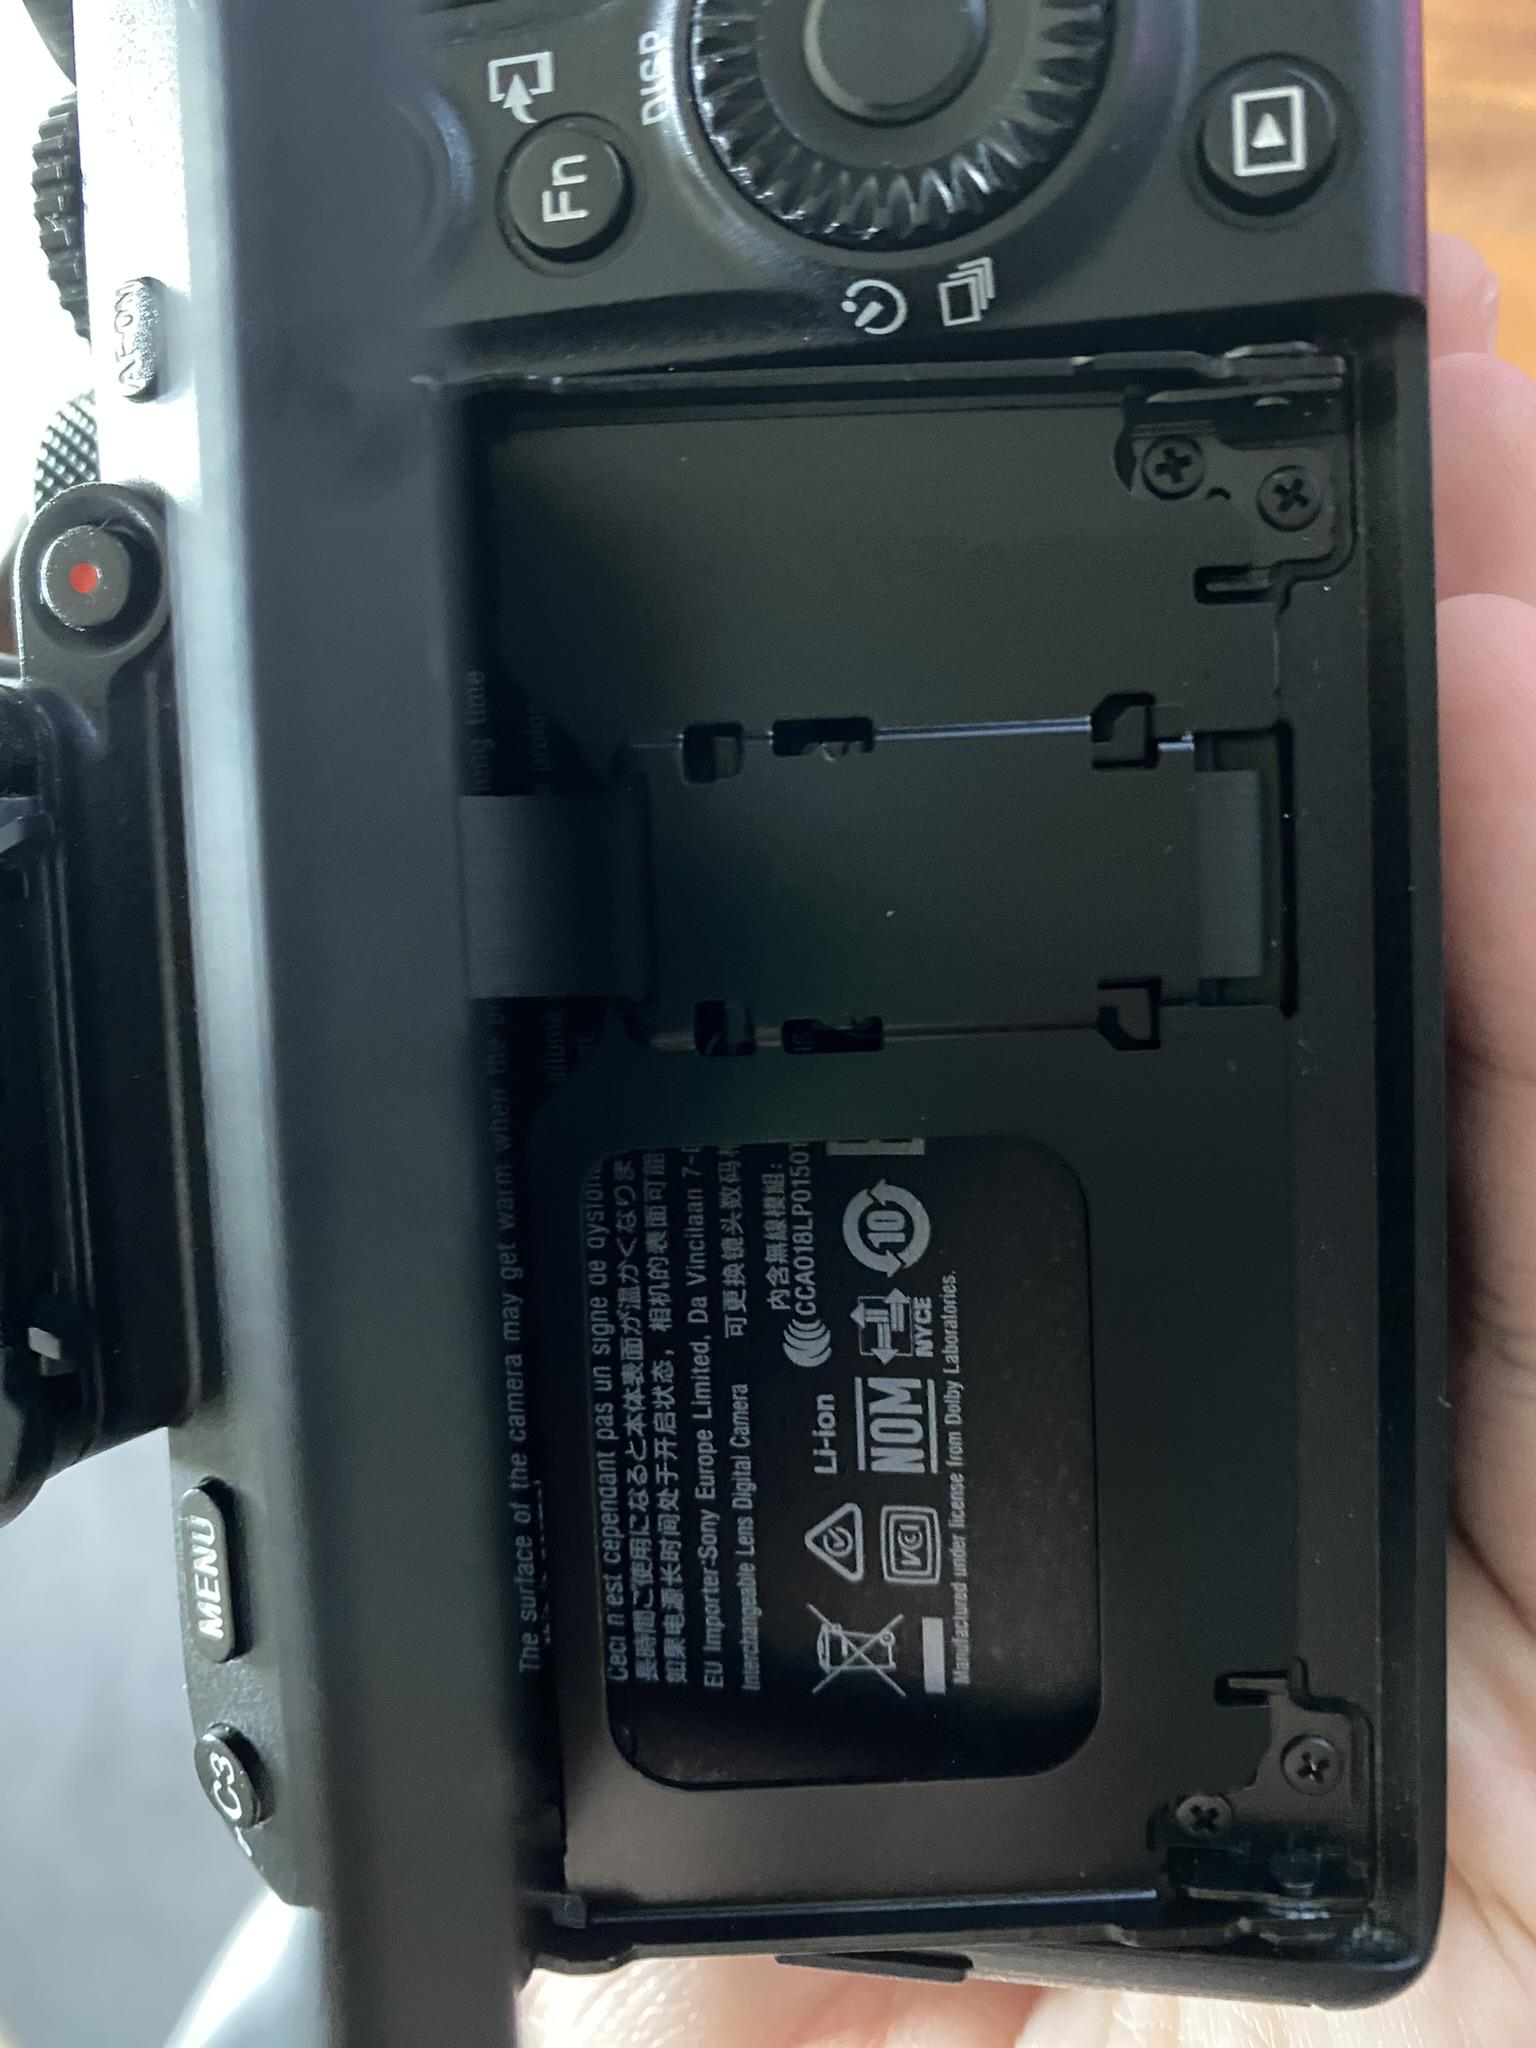PH: (1252, 464, 1328, 532), (1141, 435, 1205, 500), (1278, 1737, 1344, 1798), (1176, 1790, 1234, 1850)
